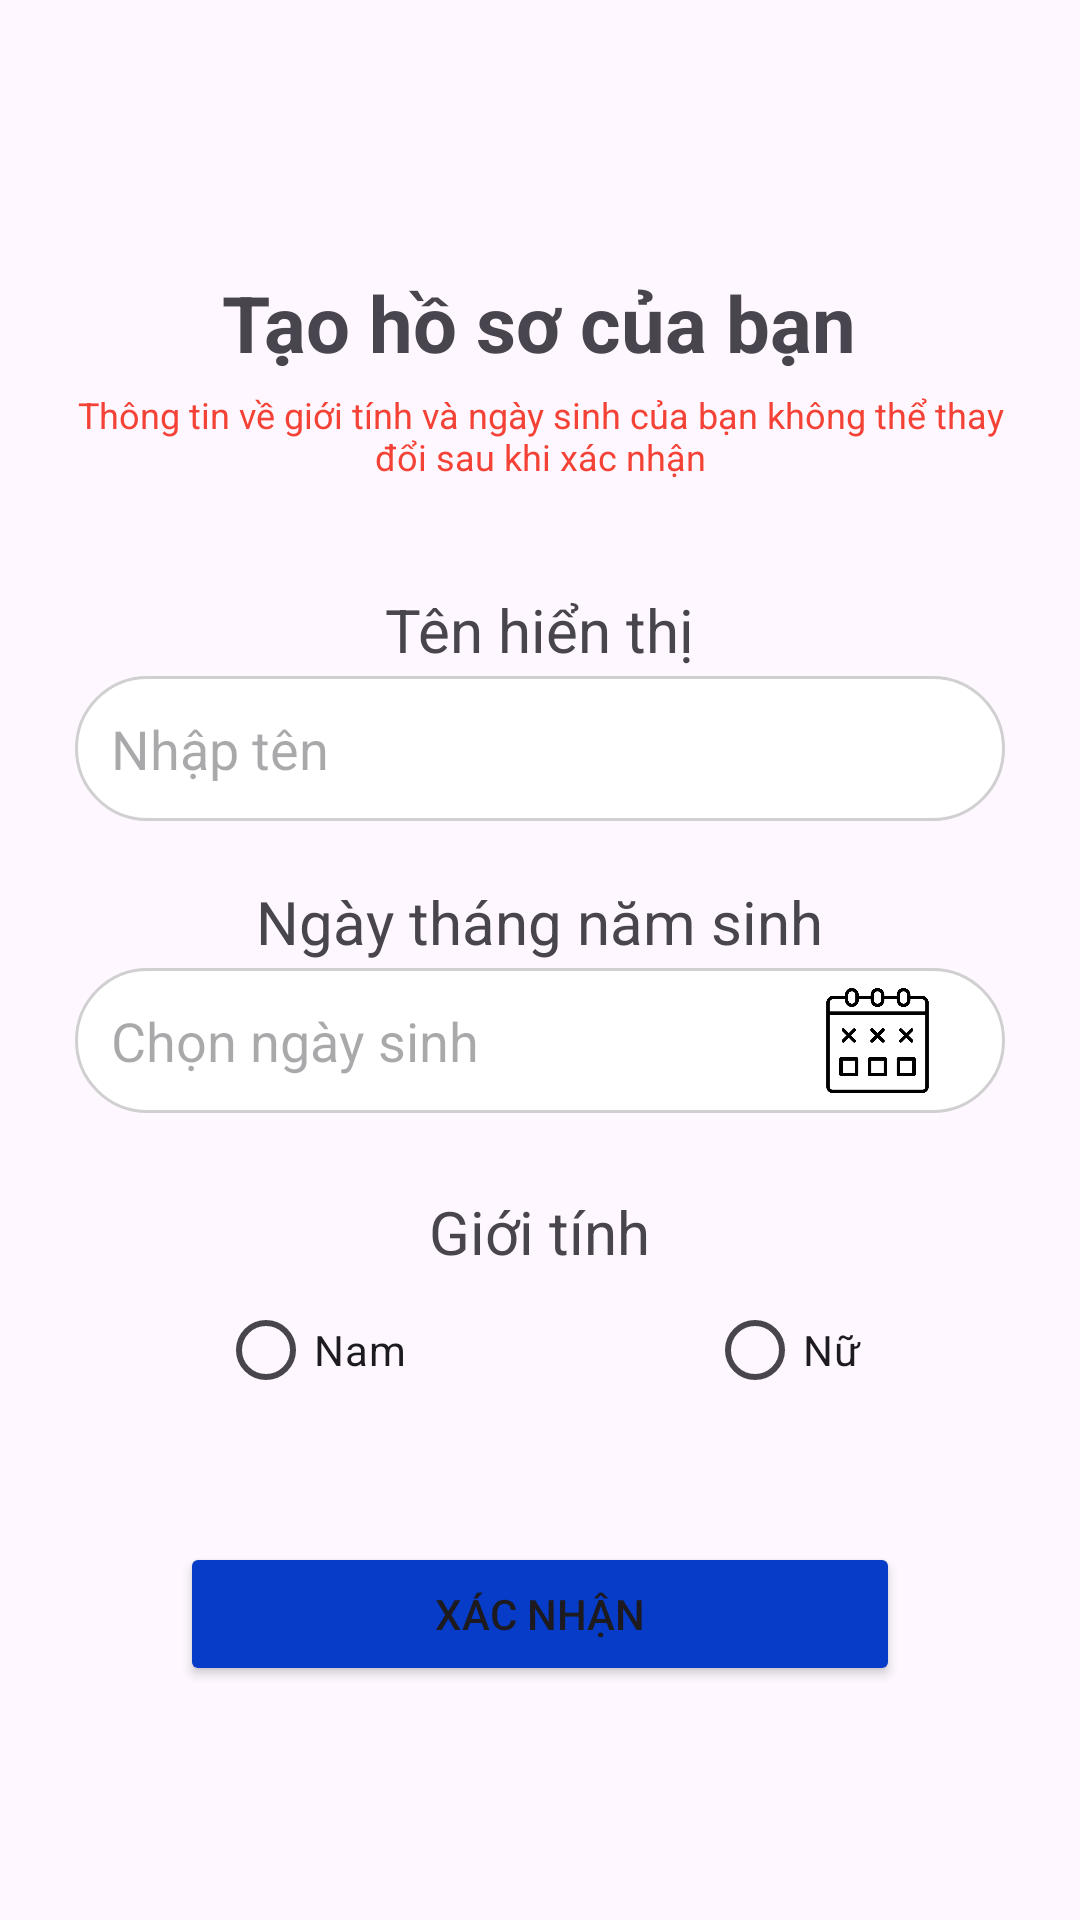

Named icons in this screenshot (1080×1920) and their bounding boxes, {"left": x1, "top": y1, "right": x2, "bottom": y2}:
date register: {"left": 826, "top": 988, "right": 929, "bottom": 1093}
